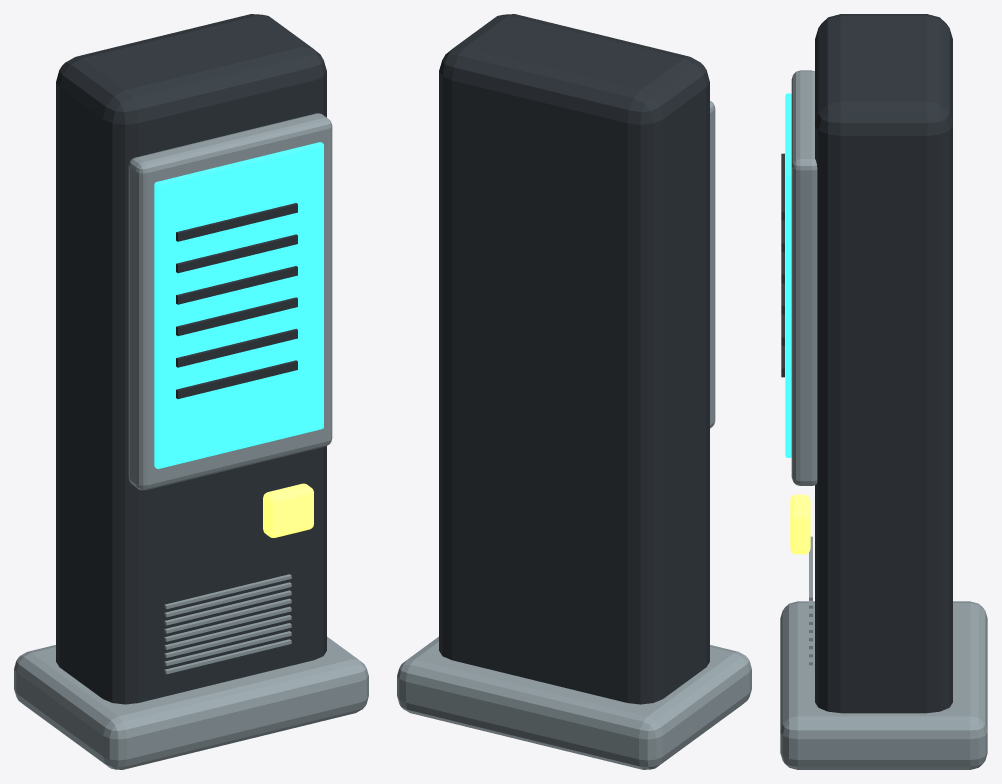
Rendered from CivicKiosk.fbx.
3 views of the same model, side by side, from view 1: azimuth 30°, elevation 25°; view 2: azimuth 150°, elevation 25°; view 3: azimuth 270°, elevation 25° (orthographic).
Visible parts, largest first — view 1: CivicKiosk; view 2: CivicKiosk; view 3: CivicKiosk.
Part boxes in pixels (x1,y1,x2,y2): CivicKiosk: (14, 14, 368, 769); CivicKiosk: (397, 14, 751, 769); CivicKiosk: (780, 14, 987, 769).
Size of the model in its own units: 105 by 250 by 72.
